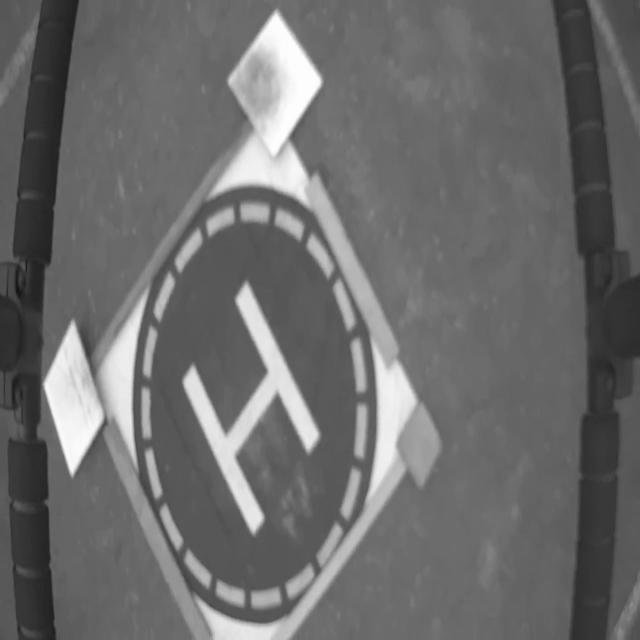Helipad: (180, 279, 322, 539)
